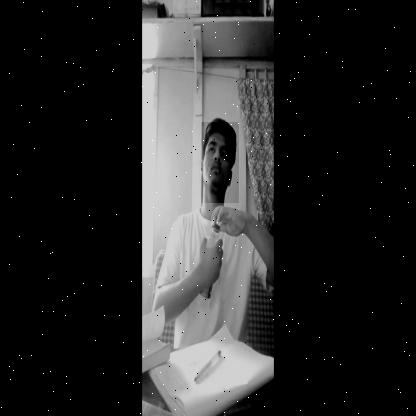Distracted: (201, 122, 239, 203)
